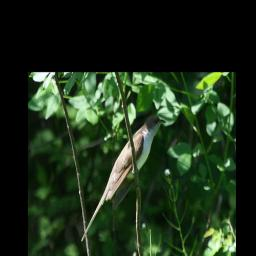Cuckoo: (80, 114, 166, 244)
